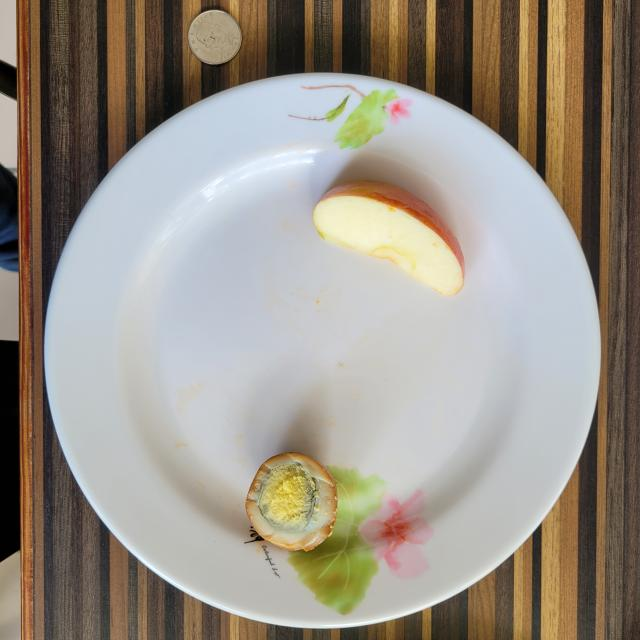apple -sliced-: (312, 181, 465, 296)
coin: (188, 10, 241, 65)
soy egg: (246, 452, 338, 551)
